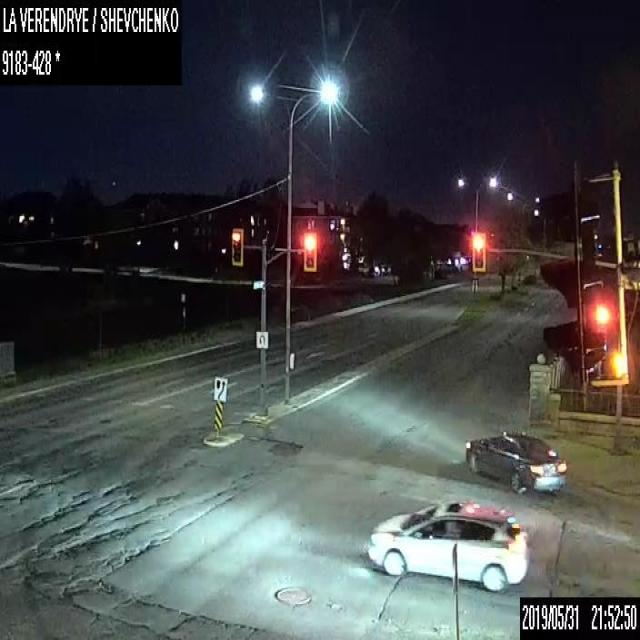vehicle: (367, 498, 529, 590), (464, 431, 566, 488), (367, 265, 379, 277)
